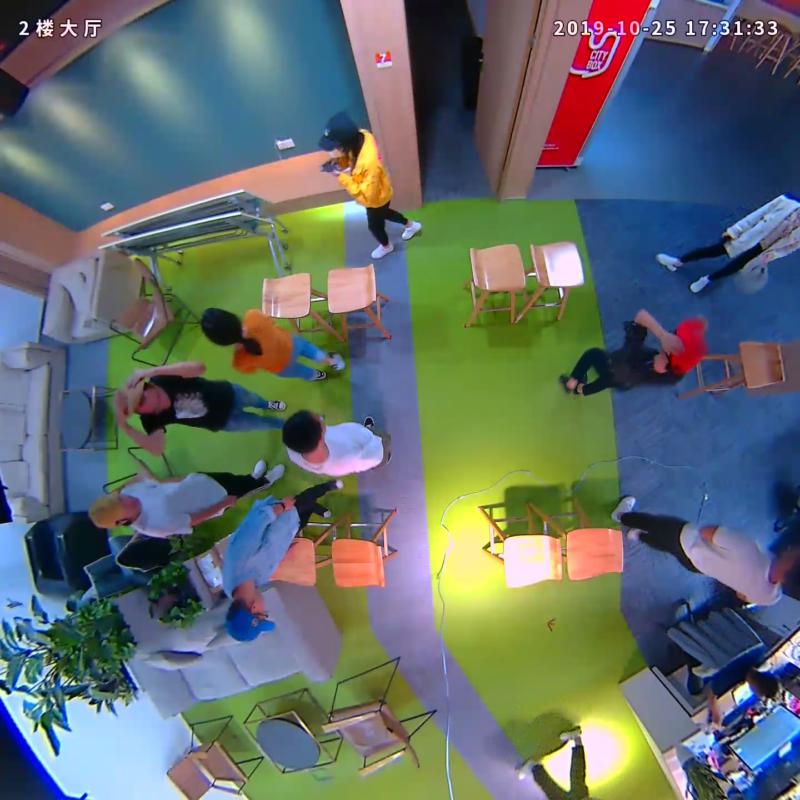head: (661, 318, 707, 377), (225, 590, 276, 642), (86, 489, 139, 530), (282, 409, 326, 453), (117, 379, 166, 415), (199, 307, 243, 347), (317, 111, 357, 153)
